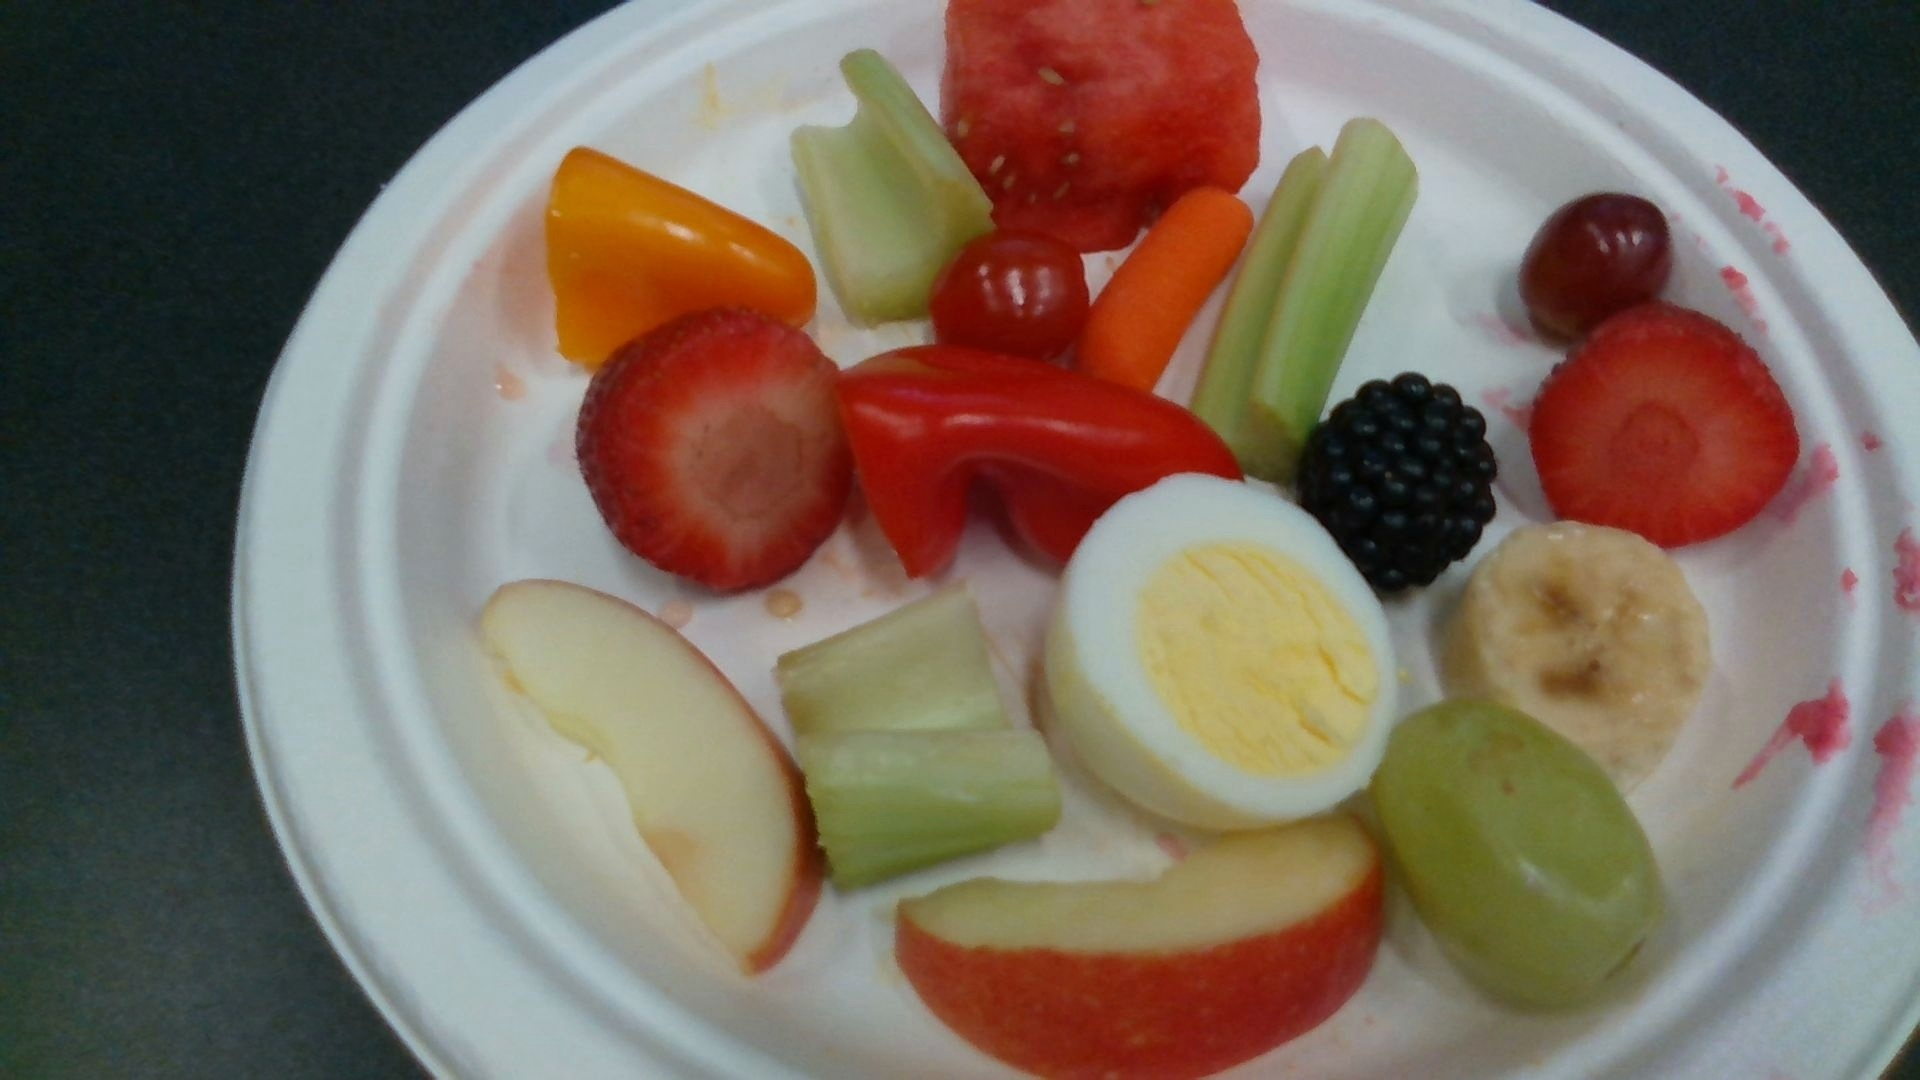apple: (477, 580, 818, 971), (897, 818, 1385, 1080)
banana: (1449, 524, 1709, 798)
bell_pepper: (835, 345, 1244, 580), (547, 146, 818, 363)
blackberry: (1295, 373, 1494, 600)
carrot: (1087, 186, 1254, 388)
celery: (779, 596, 1054, 890), (1189, 125, 1418, 463), (789, 50, 990, 326)
cherry_tomato: (930, 229, 1089, 355)
egg: (1042, 476, 1394, 831)
grape_green: (1374, 702, 1654, 1005)
grape_purple: (1524, 193, 1669, 335)
melon: (939, 1, 1261, 253)
strawberry: (579, 305, 843, 595), (1534, 306, 1799, 545)
